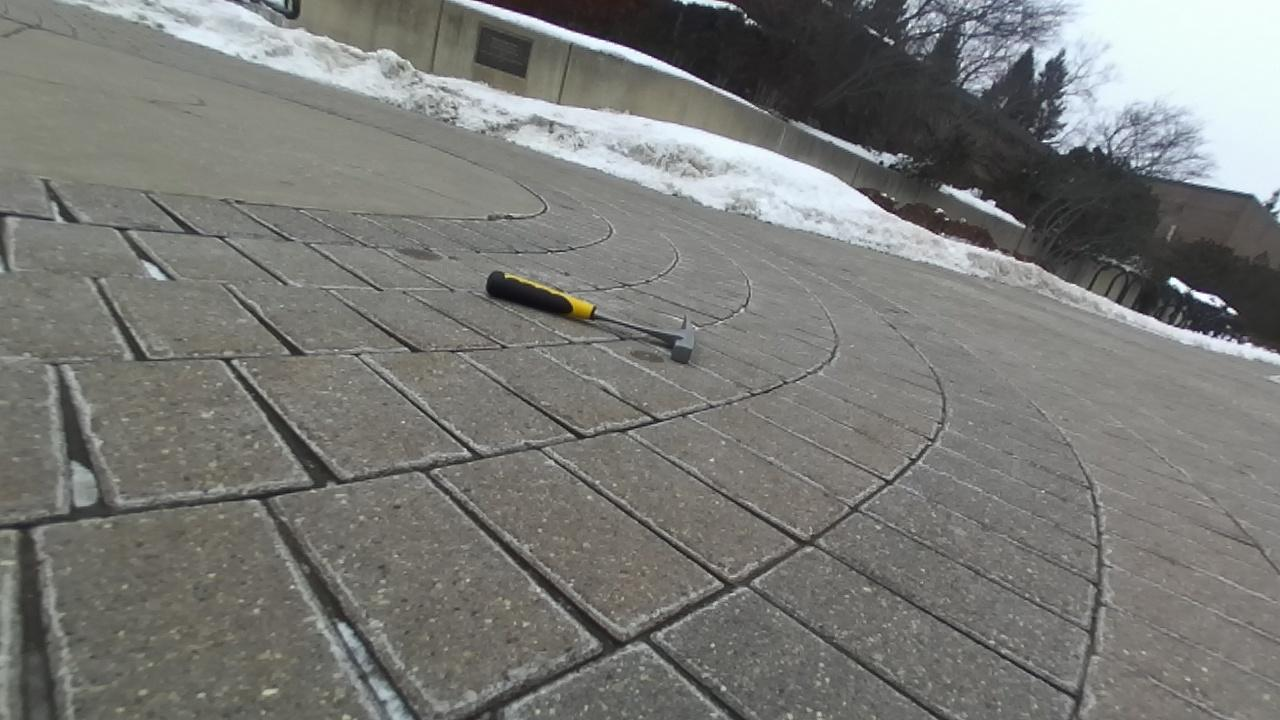pick: (486, 271, 695, 363)
